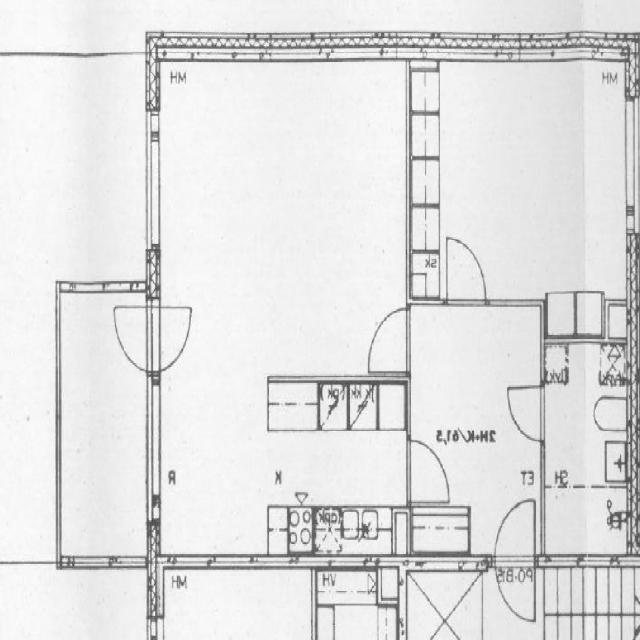door: (105, 307, 161, 372), (147, 307, 202, 372), (494, 554, 535, 630), (494, 492, 535, 566), (365, 308, 411, 373), (406, 439, 451, 502), (447, 237, 486, 306), (506, 386, 546, 441)
